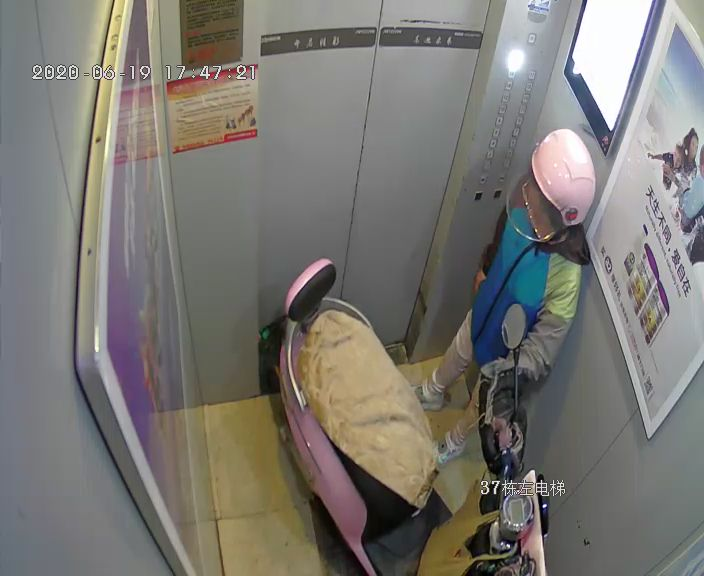Electric-bicycle: (281, 259, 550, 576)
